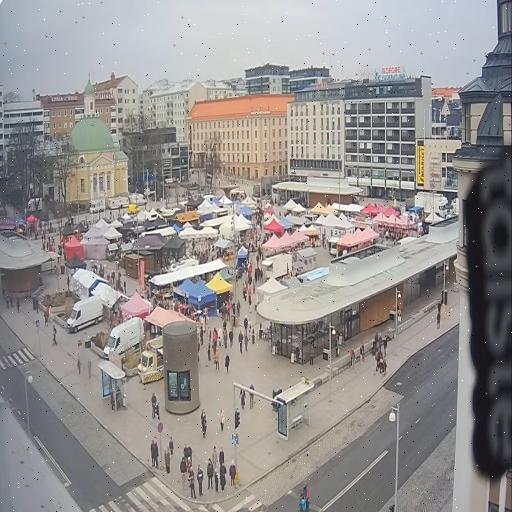Delivery: (104, 317, 144, 359), (67, 297, 103, 332), (138, 336, 163, 383)
